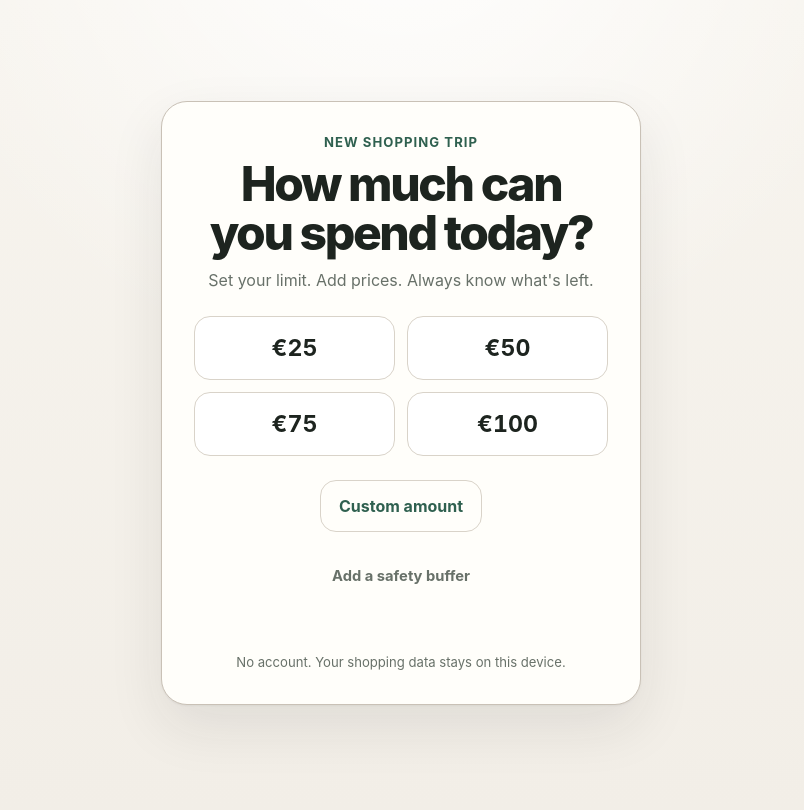
Test: StartTripScreen › keeps the trip idle when the buffer exceeds the selected budget
Click the heading "Add a safety buffer".
click(401, 576)  # box [332, 567, 470, 585]
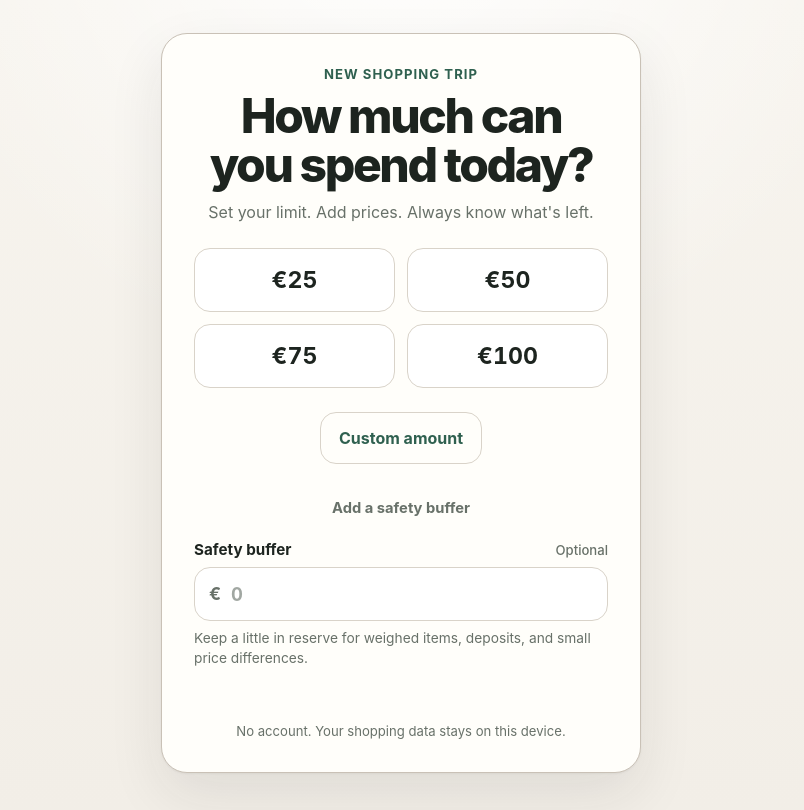
Type "60" into the field labelled "Safety buffer Optional".
click(411, 594); type("60")  # box [229, 582, 593, 606]
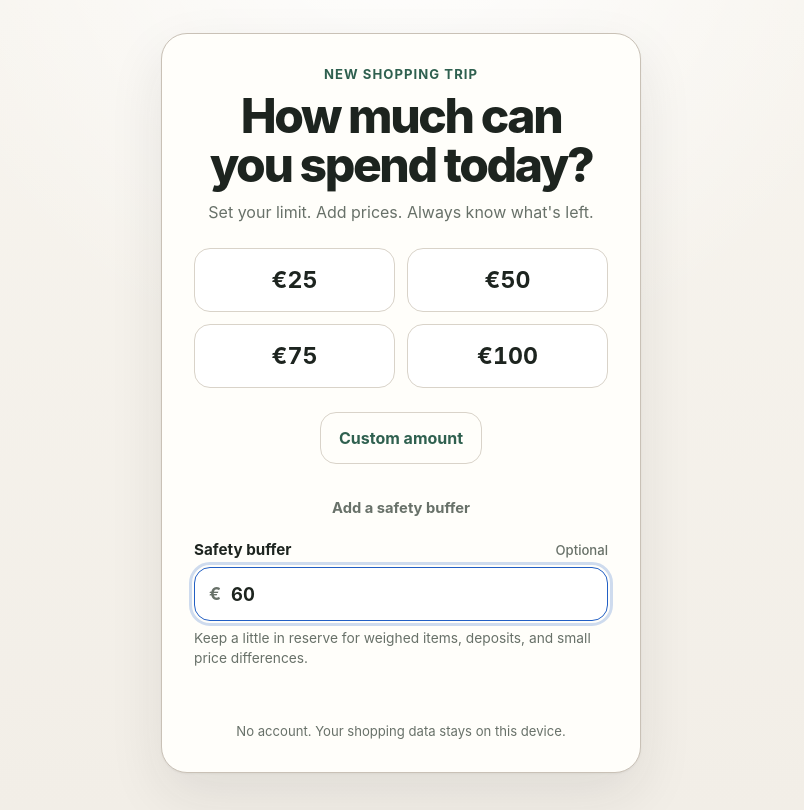
Click the button "€50".
click(508, 280)  # box [407, 248, 608, 312]
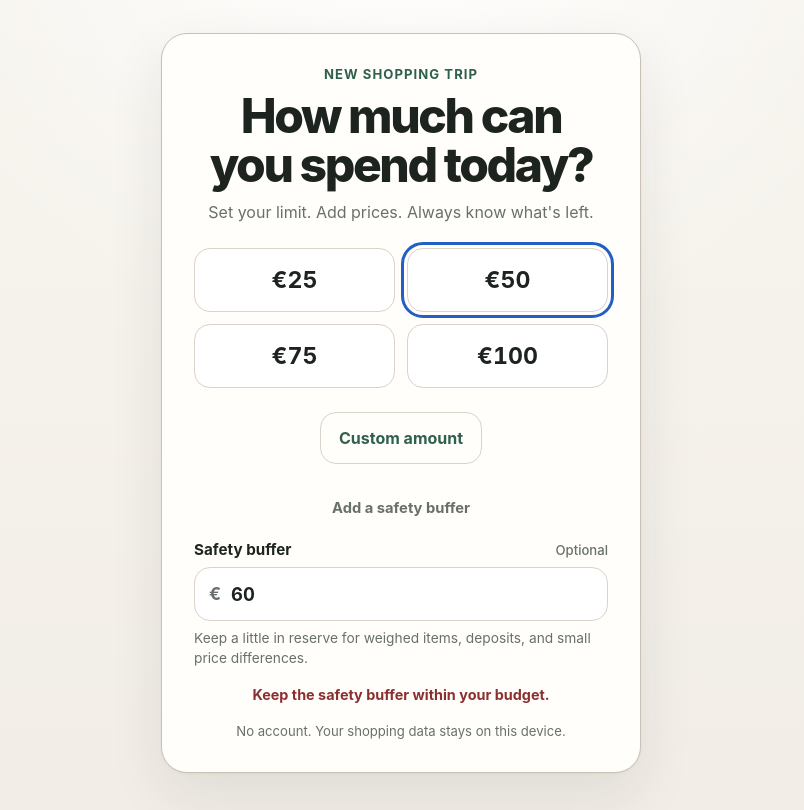
Now the message reads "Keep the safety buffer within your budget.", box [252, 686, 550, 703]
